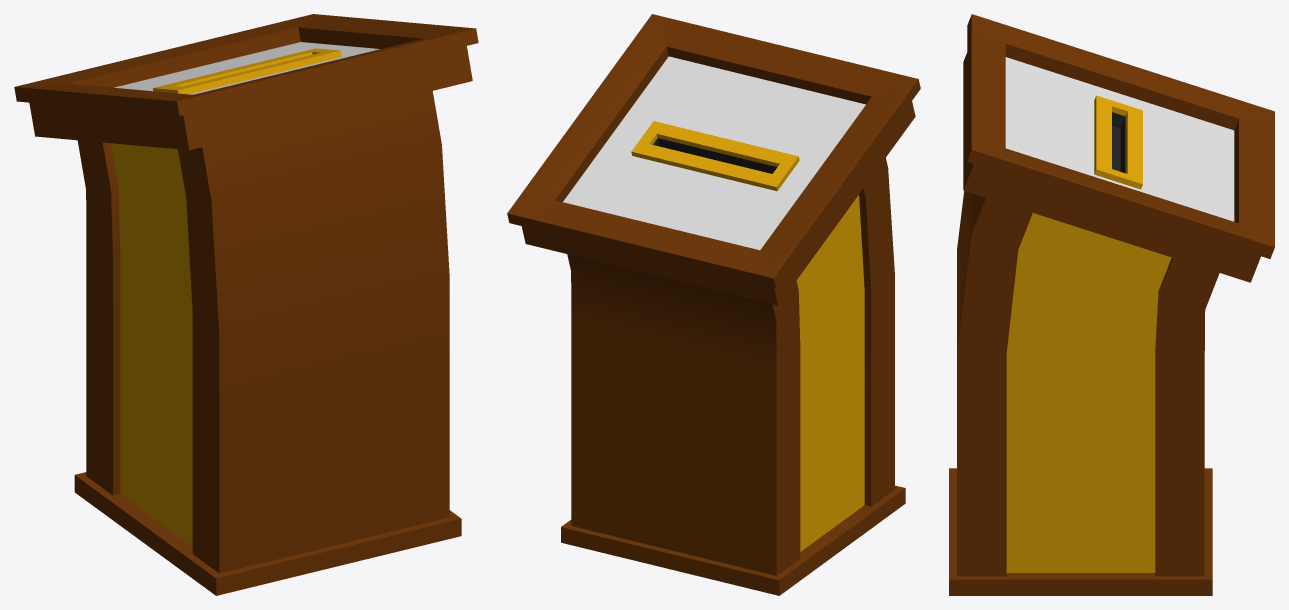
Rendered from Taquilla_01.fbx.
The picture shows the model from 3 angles, left to right: view 1: azimuth 30°, elevation 25°; view 2: azimuth 150°, elevation 25°; view 3: azimuth 270°, elevation 25°; orthographic projection. The views are drawn at different scales.
Parts seen in each view (by area): view 1: pCube1; view 2: pCube1; view 3: pCube1.
Boxes of the visible parts, <box> form: pCube1: <box>14,14,478,595</box>; pCube1: <box>507,14,920,595</box>; pCube1: <box>949,14,1274,595</box>.
Bounding box in the file's own units: 1.45 × 2.28 × 1.47.
